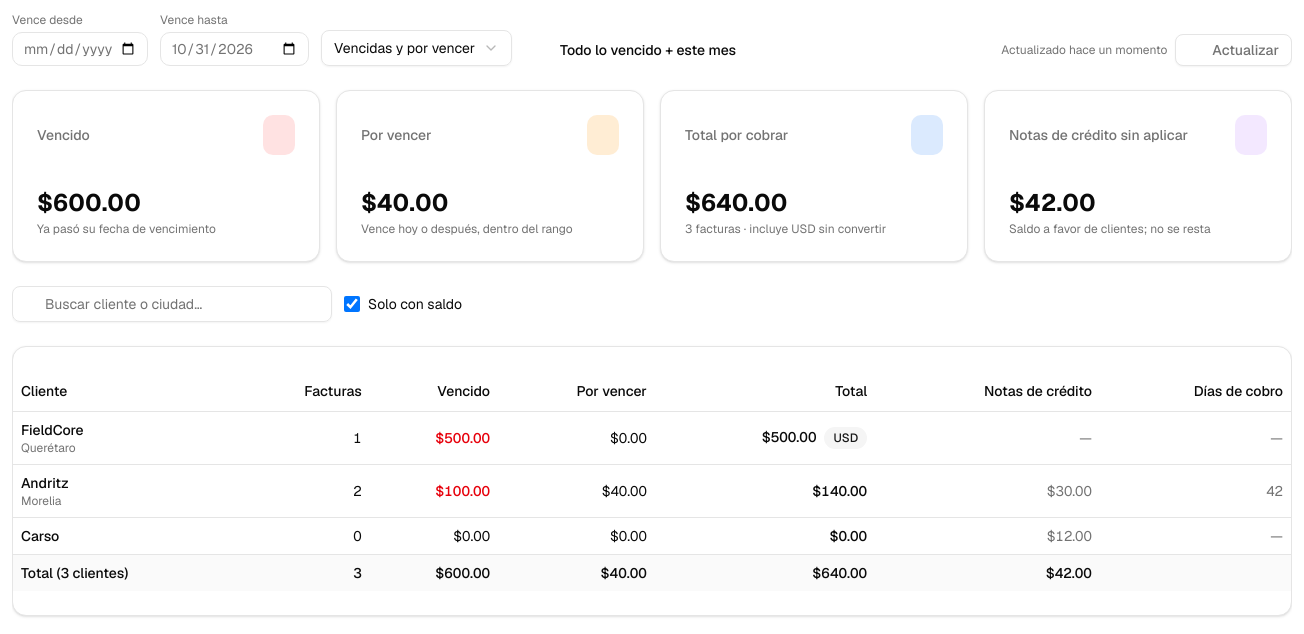
Scenario: CustomersList › la búsqueda filtra por nombre o ciudad y el pie suma solo lo visible
Type "morelia" into the field labelled "Buscar cliente o ciudad…".
click(172, 304); type("morelia")  # box x1=12 y1=286 x2=332 y2=322
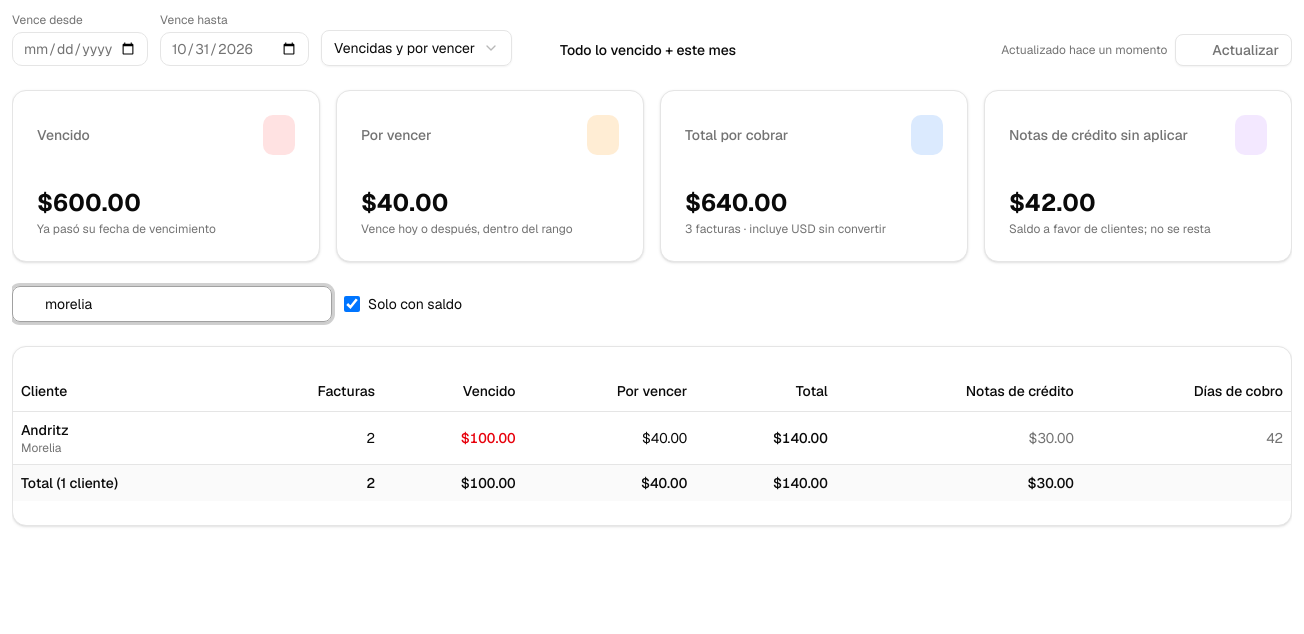
Now the links read "Andritz", in this order, box x1=21 y1=420 x2=69 y2=438
Now the text "Total (1 cliente)" is shown, box x1=13 y1=464 x2=237 y2=500
